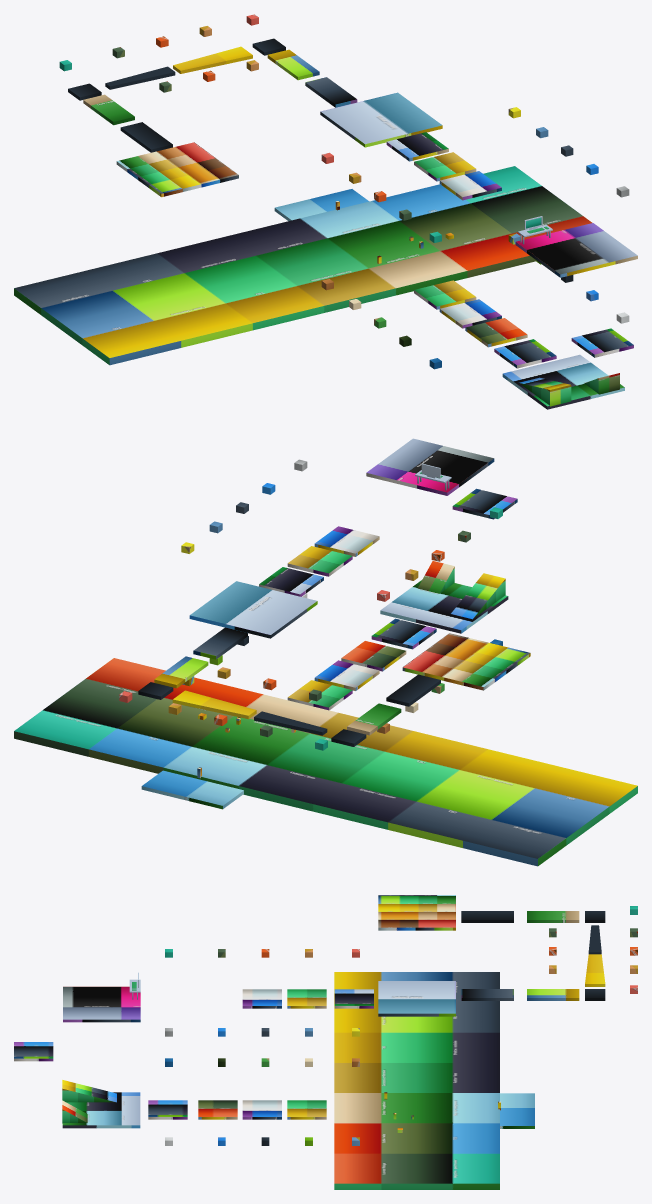
The picture shows the model from 3 angles, top to bottom: view 1: azimuth 30°, elevation 25°; view 2: azimuth 150°, elevation 25°; view 3: azimuth 270°, elevation 25°; orthographic projection. The views are drawn at different scales.
Visible parts, largest first — view 1: static.002, static.037, static.001, static, static.028, platform_move_2.004, zplatform_move_2.005, platform_move_2.003, platform_move_2.005, platform_move_2.007, platform_move_2.001, platform_move_2.006 (+8 smaller); view 2: static.002, static, static.037, static.001, static.028, Stairs, platform_move_2.006, platform_move_2.004, platform_move_2.002, platform_move_2.007, platform_move_2.003, platform_move_2.005 (+9 smaller); view 3: static.002, static.001, static, static.037, static.028, Stairs, platform_move_2.001, platform_move_2.002, platform_move_2.003, platform_move_2.004, platform_move_2.005, platform_move_2.006 (+7 smaller).
Part boxes in pixels (x1,y1,x2,y2): static.002: (14,166,592,365); static.037: (116,142,238,197); static.001: (515,223,637,277); static: (320,92,442,147); static.028: (502,354,624,409); platform_move_2.004: (494,339,556,368); zplatform_move_2.005: (571,328,633,357); platform_move_2.003: (465,318,527,347); platform_move_2.005: (386,132,448,161); platform_move_2.007: (439,171,501,200); platform_move_2.001: (414,280,476,309); platform_move_2.006: (414,152,476,181); static.002: (14,658,637,866); static: (189,581,317,638); static.037: (402,633,530,690); static.001: (366,438,494,495); static.028: (380,580,508,633); Stairs: (451,573,505,619); platform_move_2.006: (287,546,352,576); platform_move_2.004: (371,618,436,649); platform_move_2.002: (314,660,379,690); platform_move_2.007: (314,526,379,556); platform_move_2.003: (341,641,406,671); platform_move_2.005: (259,567,323,596); static.002: (334,972,534,1189); static.001: (63,986,140,1022); static: (378,981,455,1016); static.037: (378,895,455,930); static.028: (62,1092,140,1128); Stairs: (62,1080,116,1102); platform_move_2.001: (287,1100,326,1119); platform_move_2.002: (242,1100,281,1119); platform_move_2.003: (198,1100,237,1119); platform_move_2.004: (148,1100,187,1119); platform_move_2.005: (334,989,373,1008); platform_move_2.006: (287,989,326,1008).
Bounding box in the file's own units: 49.59 × 14.58 × 61.79.
Materials: 1 (1 with a texture image).
